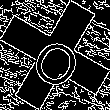O_NE: (24, 22, 86, 88)
